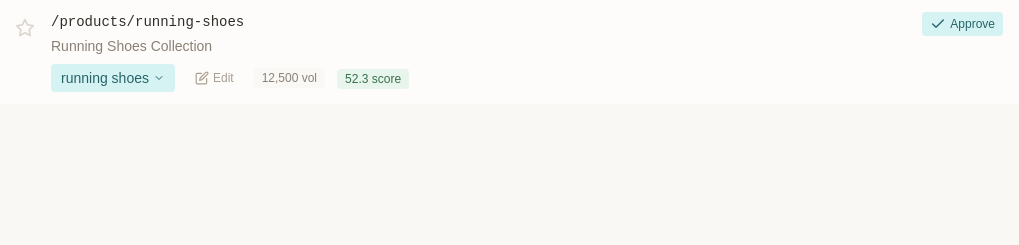
Test: KeywordPageRow › keyword dropdown › opens dropdown when keyword button clicked
The image size is (1019, 245).
Click the button "running shoes": (113, 78) [51,64,175,92]
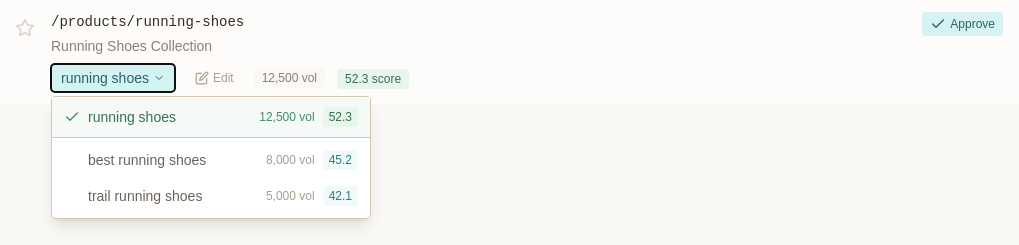
expect the text "best running shoes" is shown: met, box [88,150,206,170]
expect the text "trail running shoes" is shown: met, box [88,186,202,206]
